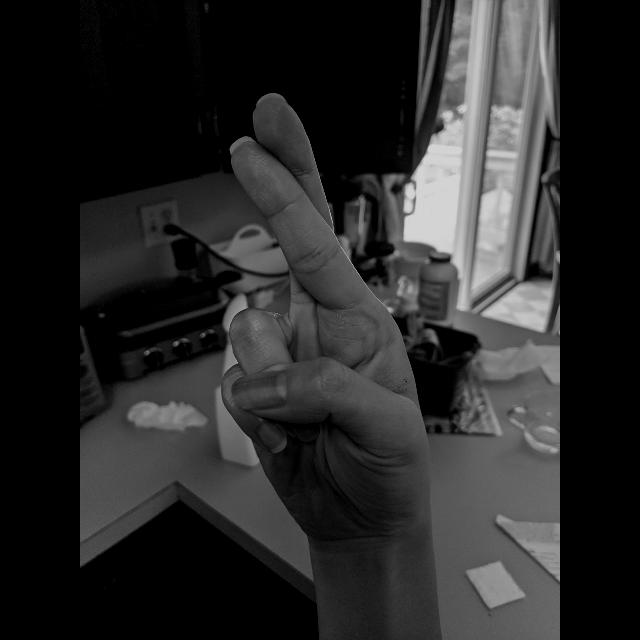R: (212, 88, 440, 556)
